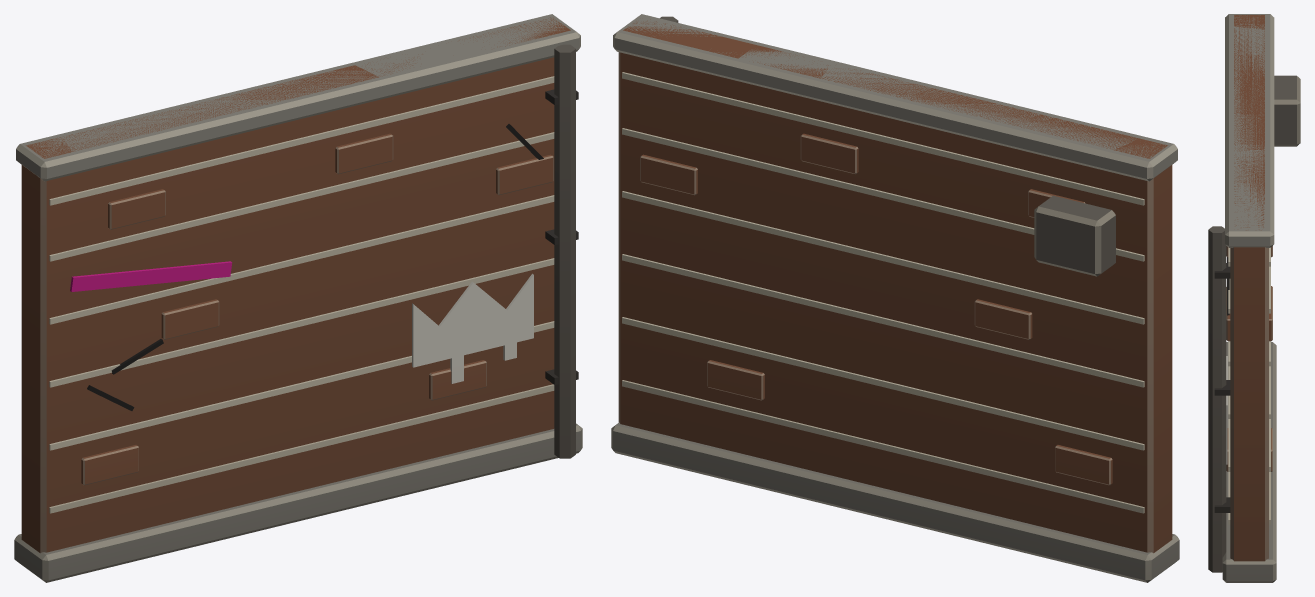
The model's file is b_wall_brick_chunks.glb.
3 renders of one model, left to right at view 1: azimuth 30°, elevation 25°; view 2: azimuth 150°, elevation 25°; view 3: azimuth 270°, elevation 25°, orthographic. The views are drawn at different scales.
Visible parts, largest first — view 1: chunk_3, chunk_2, chunk_7, chunk_0, chunk_6, chunk_4, chunk_5, chunk_1; view 2: chunk_3, chunk_2, chunk_7, chunk_0, chunk_5, chunk_4, chunk_6, chunk_1; view 3: chunk_7, chunk_6, chunk_3, chunk_5, chunk_1, chunk_0, chunk_4, chunk_2.
Part boxes in pixels (left/top/right/bottom): chunk_3: left=60, top=63, right=385, bottom=334; chunk_2: left=118, top=304, right=347, bottom=551; chunk_7: left=434, top=14, right=580, bottom=290; chunk_0: left=14, top=334, right=172, bottom=582; chunk_6: left=444, top=276, right=582, bottom=485; chunk_4: left=317, top=290, right=452, bottom=516; chunk_5: left=347, top=43, right=460, bottom=304; chunk_1: left=16, top=134, right=117, bottom=344; chunk_3: left=817, top=61, right=1143, bottom=341; chunk_2: left=855, top=315, right=1063, bottom=548; chunk_7: left=613, top=14, right=759, bottom=298; chunk_0: left=1007, top=330, right=1179, bottom=582; chunk_5: left=733, top=43, right=854, bottom=315; chunk_4: left=744, top=299, right=885, bottom=518; chunk_6: left=611, top=280, right=748, bottom=485; chunk_1: left=1058, top=136, right=1177, bottom=352; chunk_7: left=1208, top=183, right=1274, bottom=441; chunk_6: left=1208, top=395, right=1276, bottom=582; chunk_3: left=1225, top=26, right=1300, bottom=257; chunk_5: left=1225, top=149, right=1274, bottom=186; chunk_1: left=1225, top=14, right=1300, bottom=89; chunk_0: left=1226, top=257, right=1276, bottom=399; chunk_4: left=1226, top=356, right=1276, bottom=508; chunk_2: left=1226, top=253, right=1276, bottom=453.
Bounding box in the file's own units: 4.04 × 3 × 0.715.
